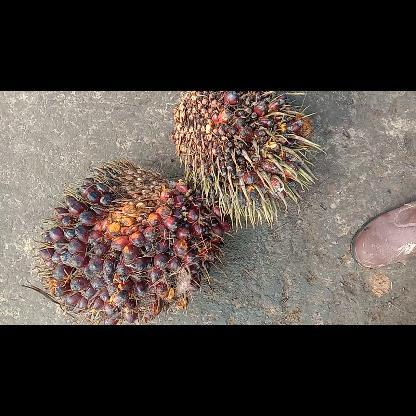Kurang masak: (35, 160, 229, 324)
TBS abnormal: (170, 91, 324, 229)
